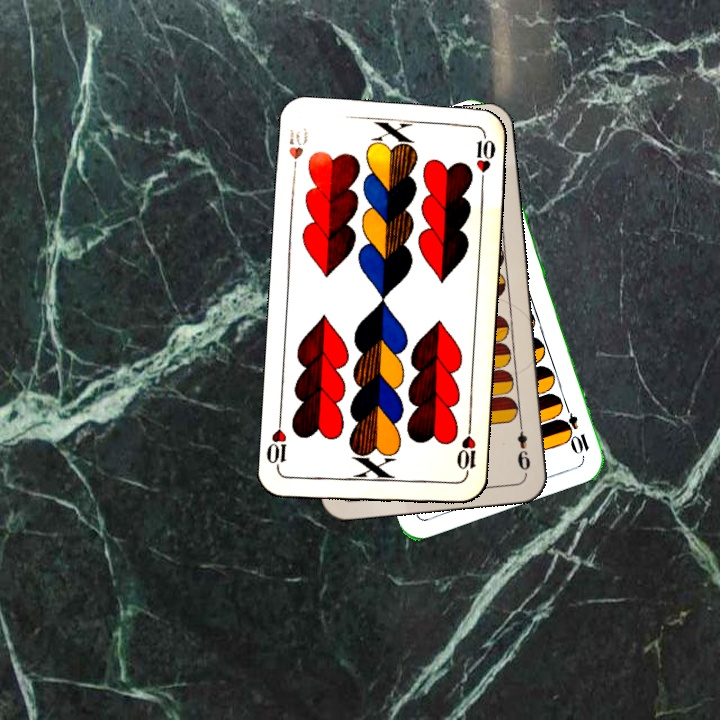E10: (558, 399, 592, 456)
E9: (513, 417, 533, 476)
H10: (452, 422, 479, 481), (284, 124, 310, 180)
